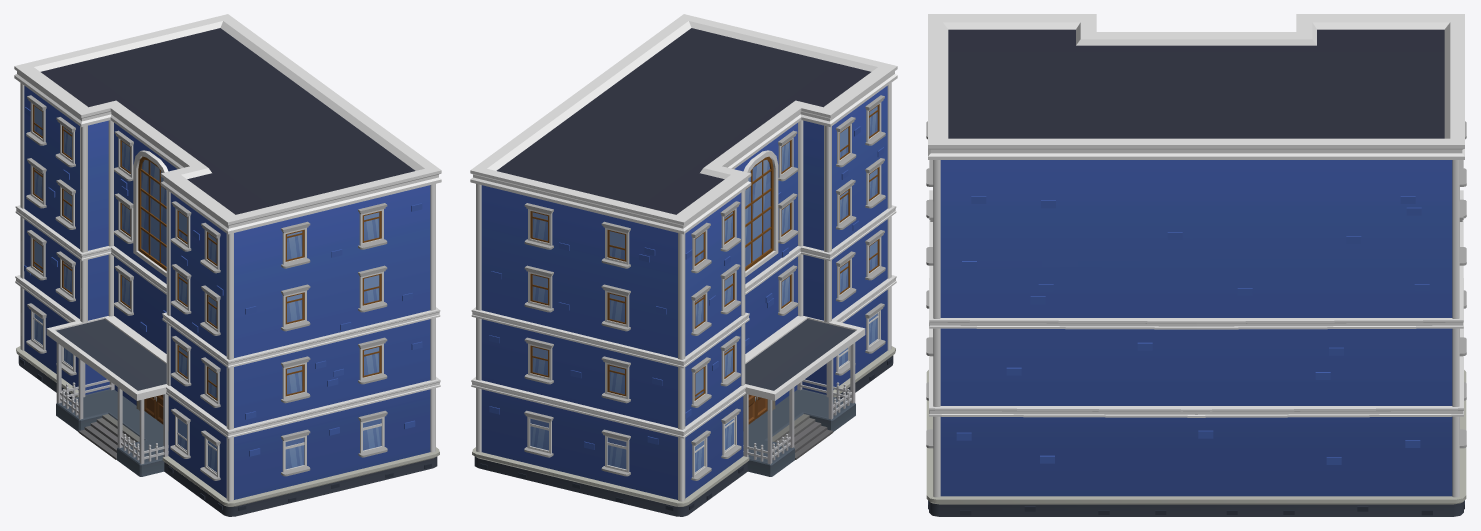
File: Building_5_3_D.fbx
3 views of the same model, side by side, from view 1: azimuth 30°, elevation 25°; view 2: azimuth 150°, elevation 25°; view 3: azimuth 270°, elevation 25° (orthographic). The views are drawn at different scales.
Visible parts, largest first — view 1: Building_5_3_D; view 2: Building_5_3_D; view 3: Building_5_3_D.
Part boxes in pixels (box(x1,y1,x2,y2)): Building_5_3_D: box(14, 14, 441, 516); Building_5_3_D: box(470, 14, 897, 516); Building_5_3_D: box(926, 14, 1466, 516).
Size of the model in its own units: 1251 by 1450 by 1908.
